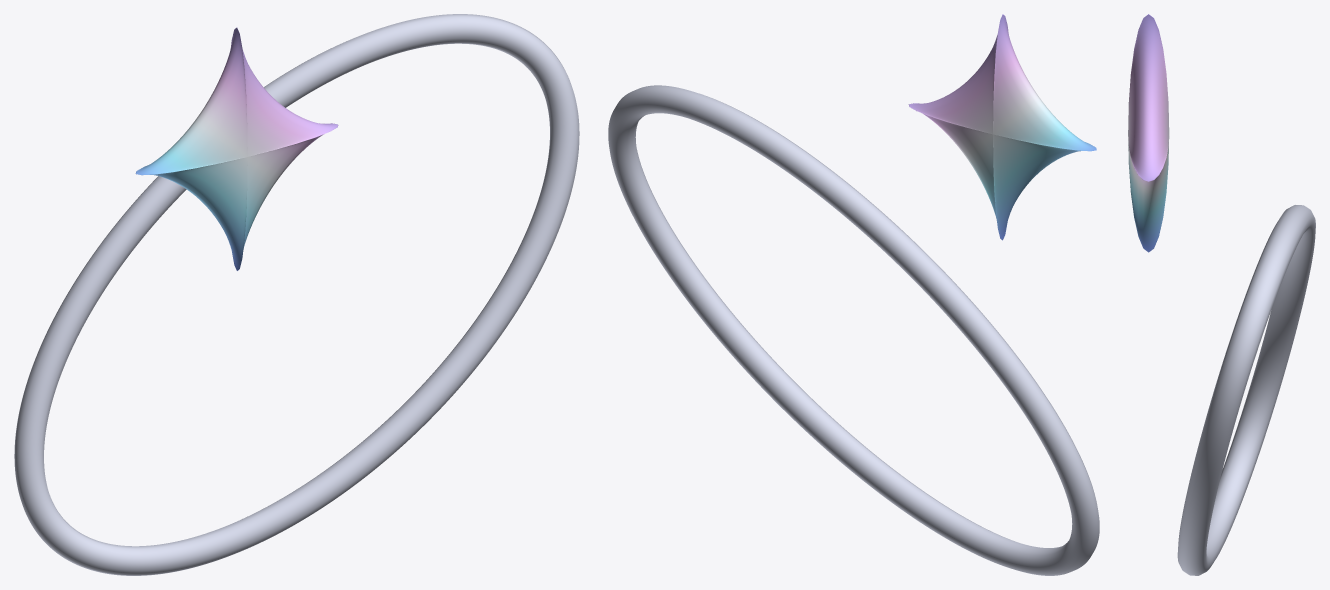
Rendered from experience-icon.glb.
3 renders of one model, left to right at view 1: azimuth 30°, elevation 25°; view 2: azimuth 150°, elevation 25°; view 3: azimuth 270°, elevation 25°, orthographic. The views are drawn at different scales.
Parts seen in each view (by area): view 1: Experience / inclined orbit, Experience / north star; view 2: Experience / inclined orbit, Experience / north star; view 3: Experience / inclined orbit, Experience / north star.
Boxes of the visible parts, x1,y1,x2,y2 form: Experience / inclined orbit: [14, 14, 579, 575]; Experience / north star: [135, 27, 338, 270]; Experience / inclined orbit: [608, 85, 1099, 575]; Experience / north star: [908, 14, 1096, 240]; Experience / inclined orbit: [1177, 205, 1315, 575]; Experience / north star: [1128, 14, 1169, 252].
Bounding box in the file's own units: 1.87 × 1.85 × 0.5742.
